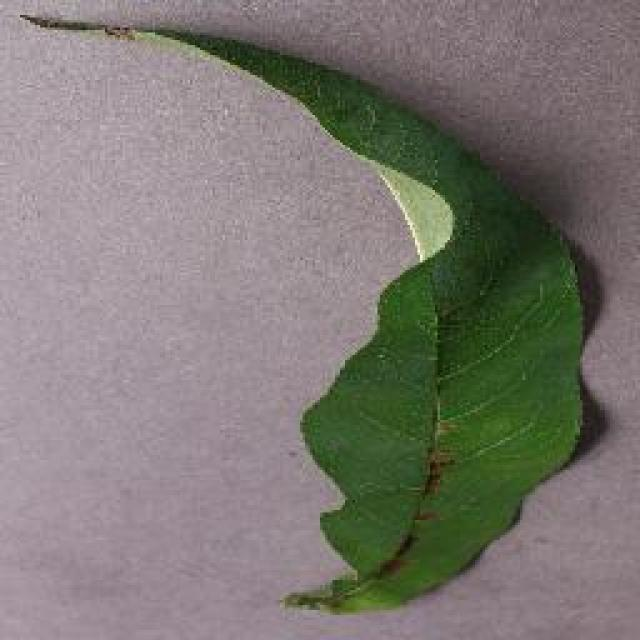Peach_Bacterial_Spot: (364, 380, 514, 640)
